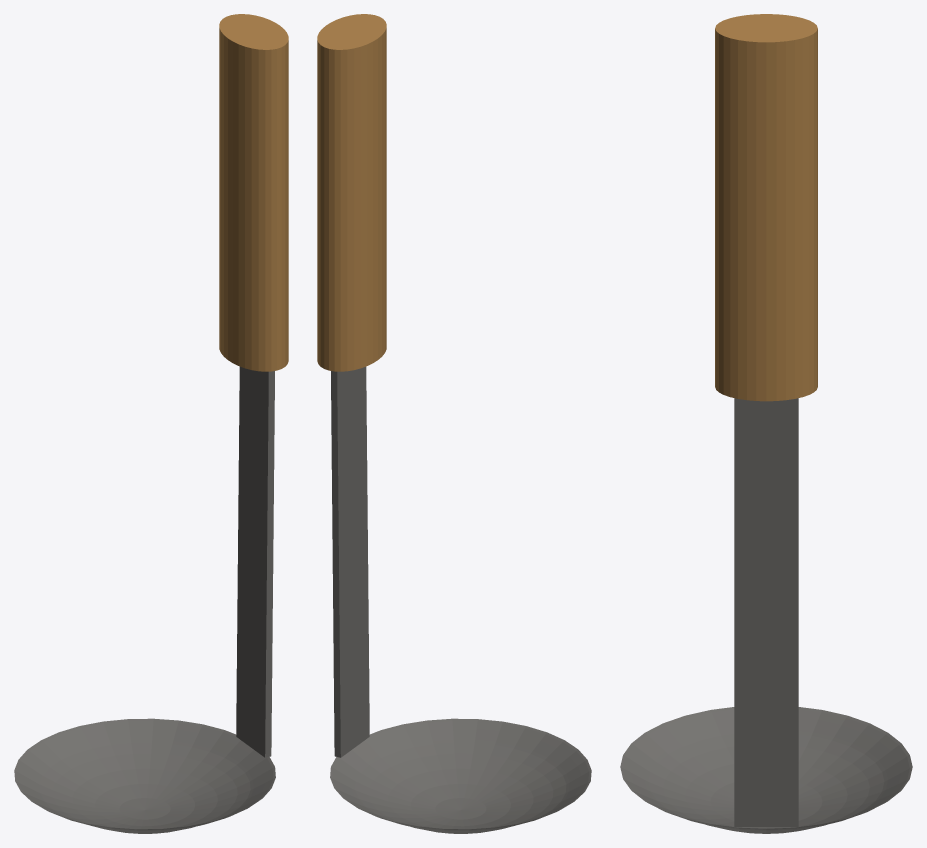
Rendered from otama.fbx.
3 renders of one model, left to right at view 1: azimuth 30°, elevation 25°; view 2: azimuth 150°, elevation 25°; view 3: azimuth 270°, elevation 25°, orthographic. The views are drawn at different scales.
Parts seen in each view (by area): view 1: 球; view 2: 球; view 3: 球.
Boxes of the visible parts, x1=… form: 球: x1=14, y1=14, x2=288, y2=833; 球: x1=317, y1=14, x2=591, y2=833; 球: x1=620, y1=14, x2=912, y2=833.
Size of the model in its own units: 80.37 by 235 by 73.44.
